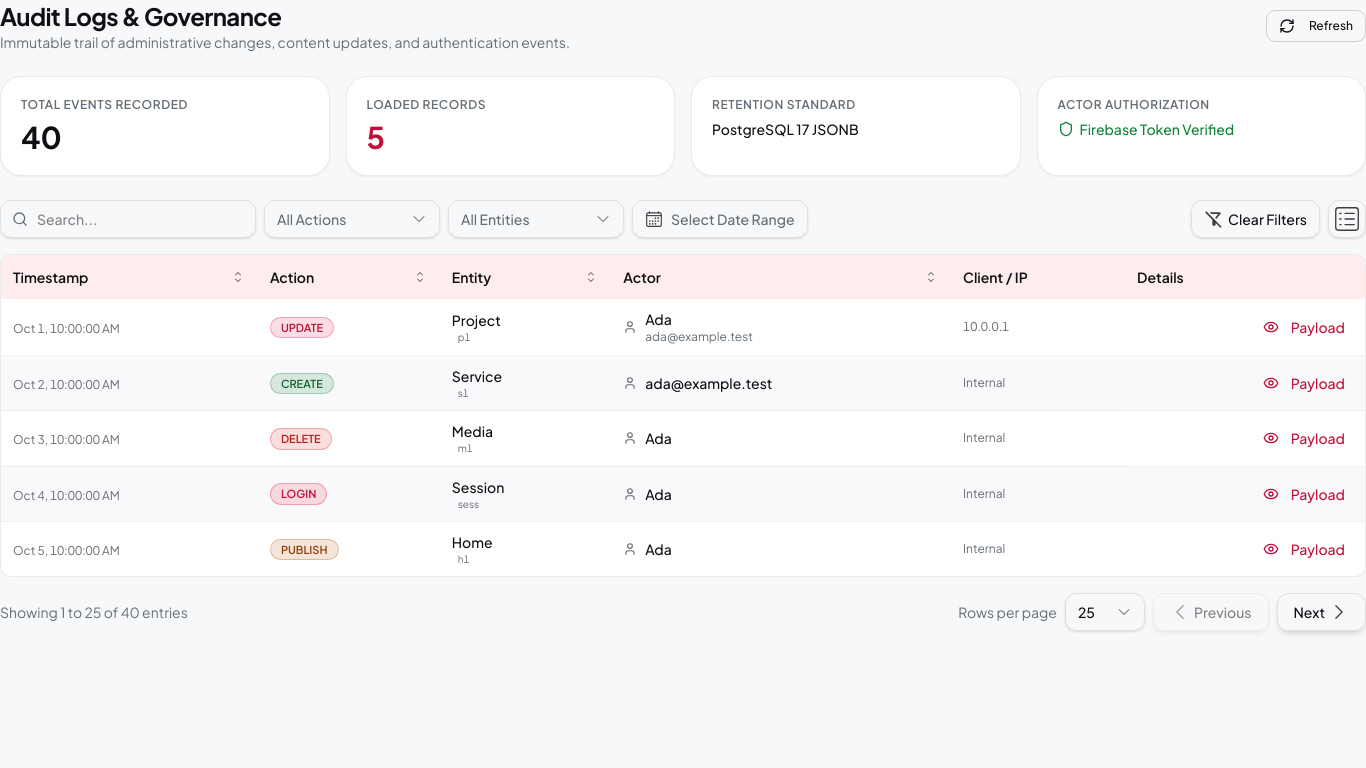
Test: AuditLogsView › shows what changed for an update
Click the button "Payload" in the row of "Oct 1, 10:00:00 AM".
click(1304, 327)  # box [1255,313,1353,341]
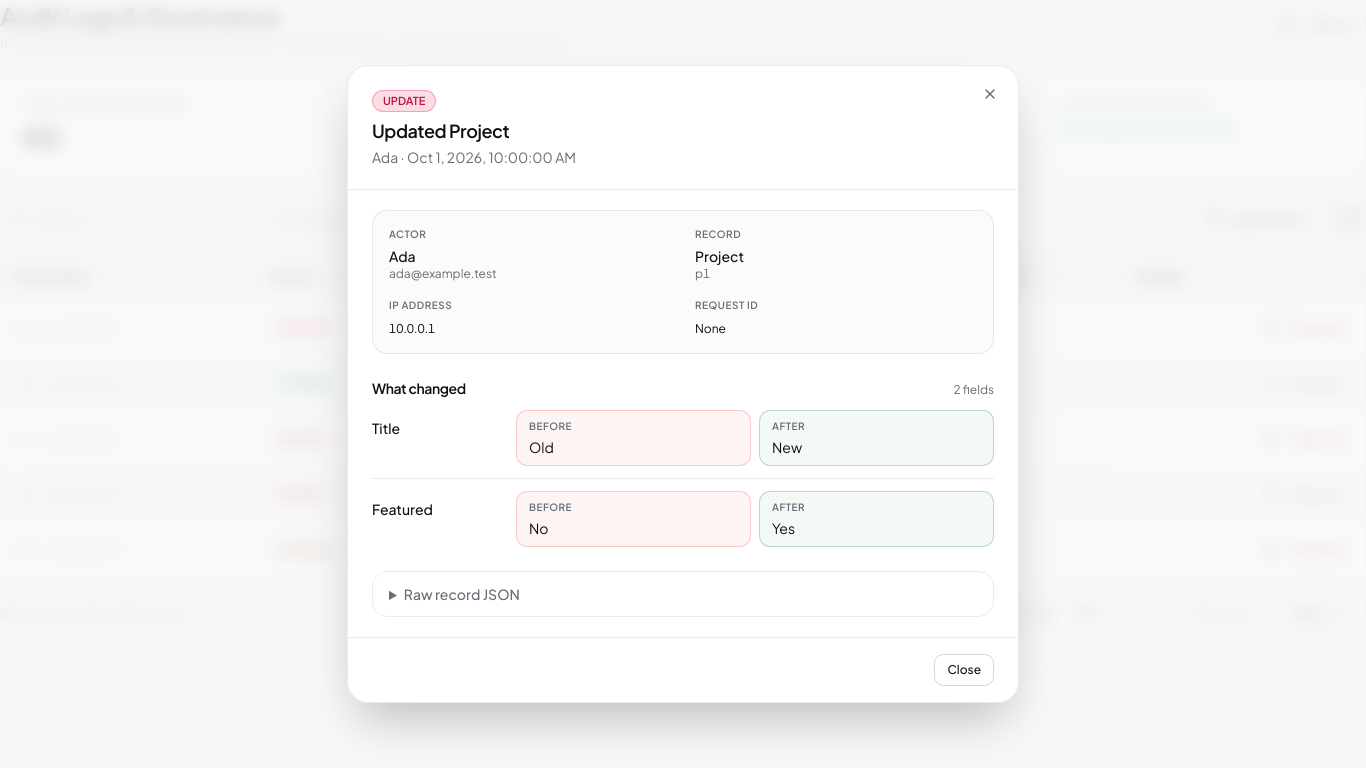
Result: the heading "What changed" is shown at [372,378,466,398]
Result: the text "Old" is shown at [529,438,554,456]
Result: the text "New" is shown at [772,438,802,456]
